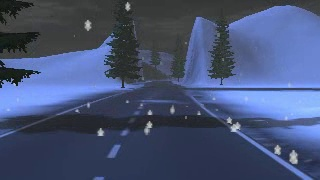Lane: (0, 81, 311, 179)
